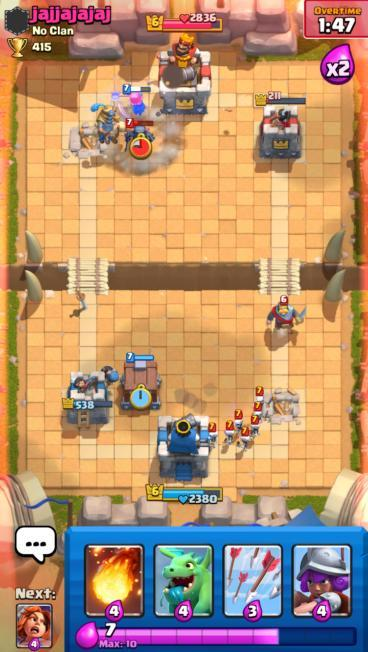ally_goblin_cage: (119, 351, 165, 409)
ally_prince: (86, 96, 126, 152)
ally_valkyrie: (119, 82, 155, 124)
enemy_knight: (264, 294, 308, 335)
enemy_mini_pekka: (121, 118, 158, 156)
enemy_skeleton: (204, 420, 221, 450), (221, 419, 238, 446), (237, 425, 254, 451), (231, 407, 246, 434), (253, 386, 268, 411), (248, 414, 263, 438), (251, 401, 266, 425)
